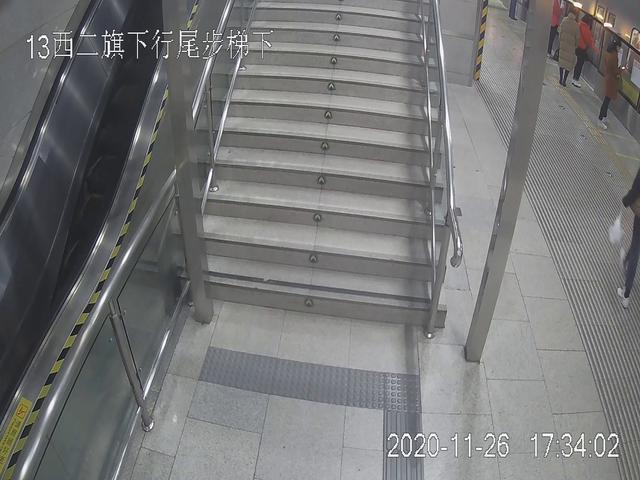person: (598, 30, 626, 133), (557, 3, 585, 95), (577, 12, 599, 89)
